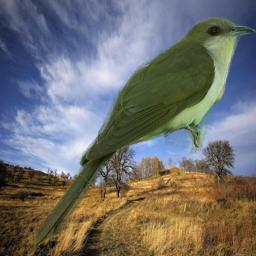Cuckoo: (33, 17, 256, 249)
